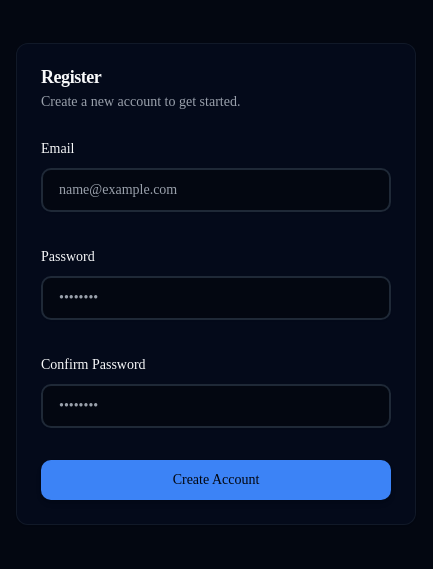
it: RegisterPage › shows validation errors for invalid input
The image size is (433, 569).
Click the button "Create Account": coordinates (216, 480) [41, 460, 391, 500]
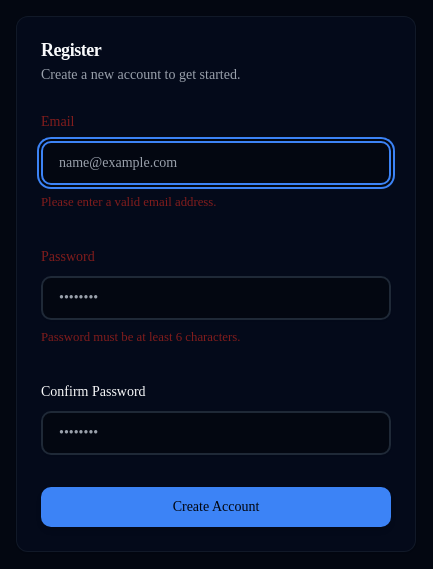
Result: the text "Please enter a valid email address." is shown at [41, 195, 216, 209]
Result: the text "Password must be at least 6 characters." is shown at [41, 330, 240, 344]
